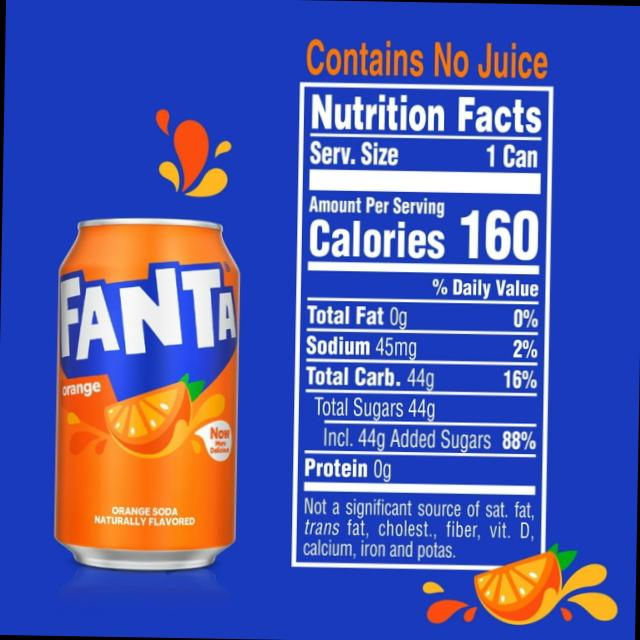fanta: (49, 218, 249, 582)
